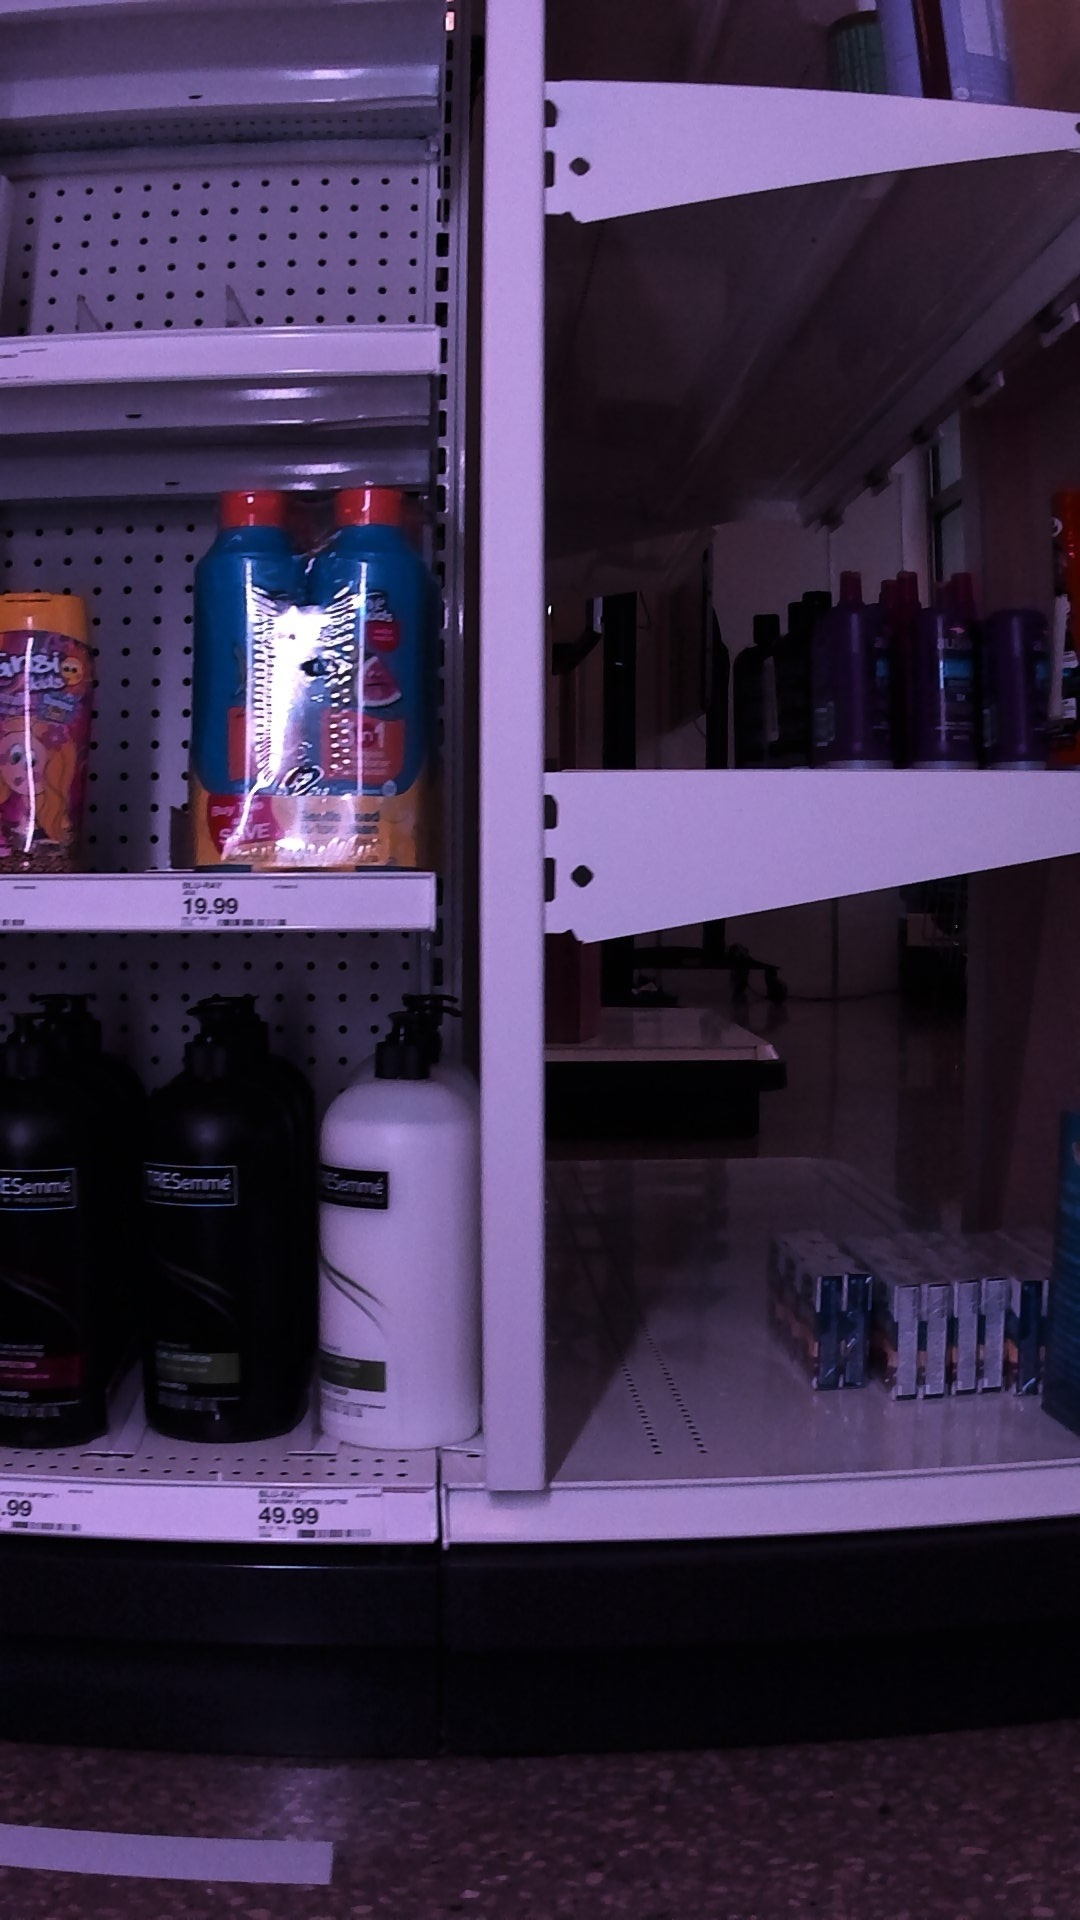ptag: (258, 1482, 384, 1549), (189, 876, 301, 942), (1, 1489, 86, 1544)
